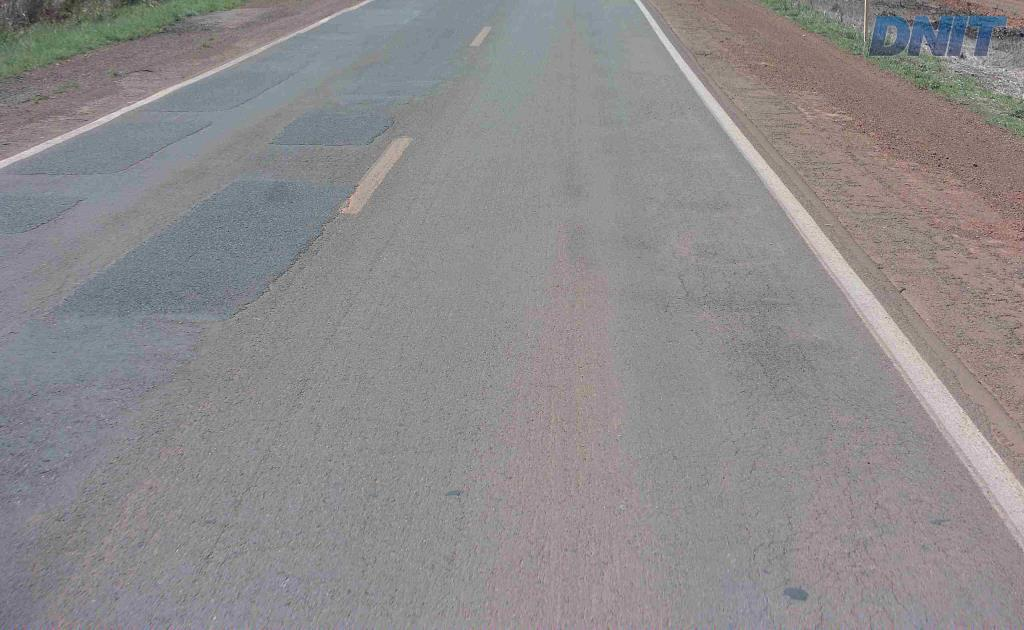crack: (725, 283, 817, 394)
